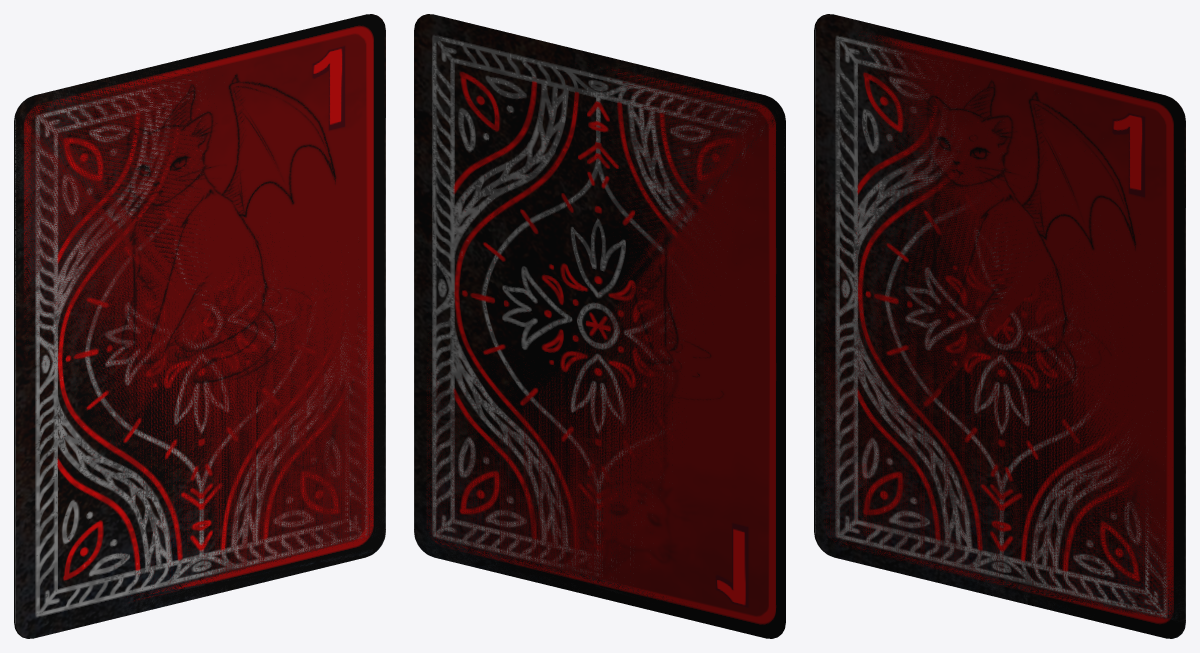
File: Card.fbx
The picture shows the model from 3 angles, left to right: view 1: azimuth 30°, elevation 25°; view 2: azimuth 150°, elevation 25°; view 3: azimuth 330°, elevation 25°; orthographic projection.
Visible parts, largest first — view 1: Card; view 2: Card; view 3: Card.
Part boxes in pixels (bbox=[...]): Card: bbox=[14, 14, 385, 638]; Card: bbox=[414, 14, 785, 638]; Card: bbox=[814, 14, 1185, 638].
Bounding box in the file's own units: 0.0637 × 0.0889 × 7.02e-09.
